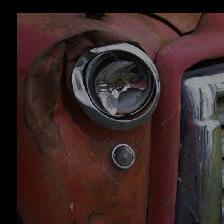head_lamp: (23, 27, 165, 188)
